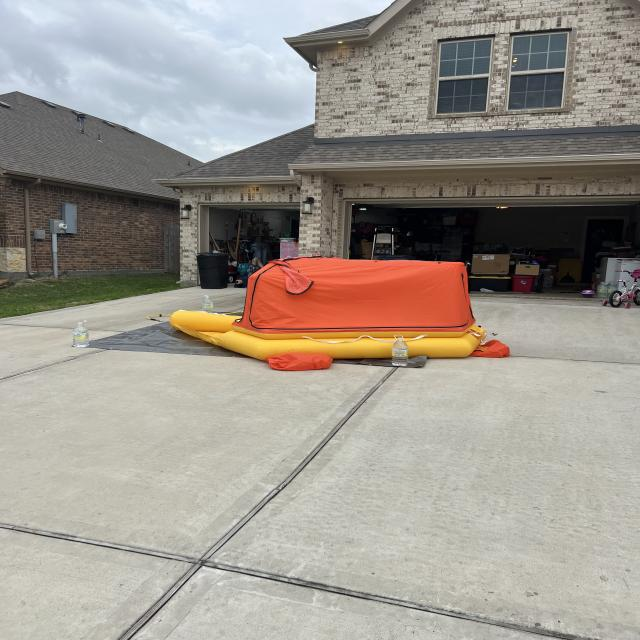Multi-person_life_raft: (168, 256, 510, 370)
